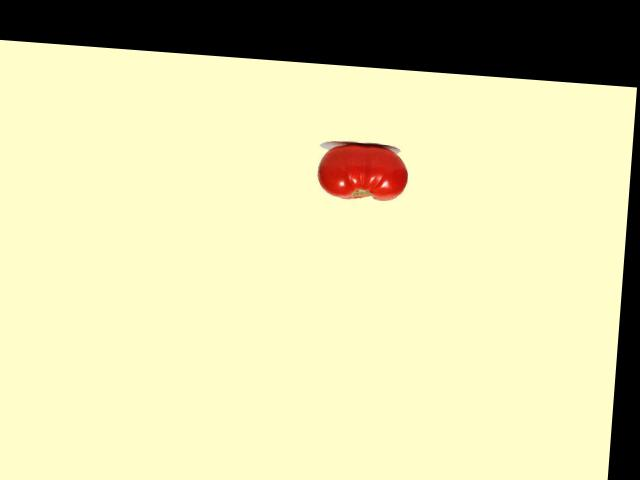tomato: (316, 141, 410, 203)
